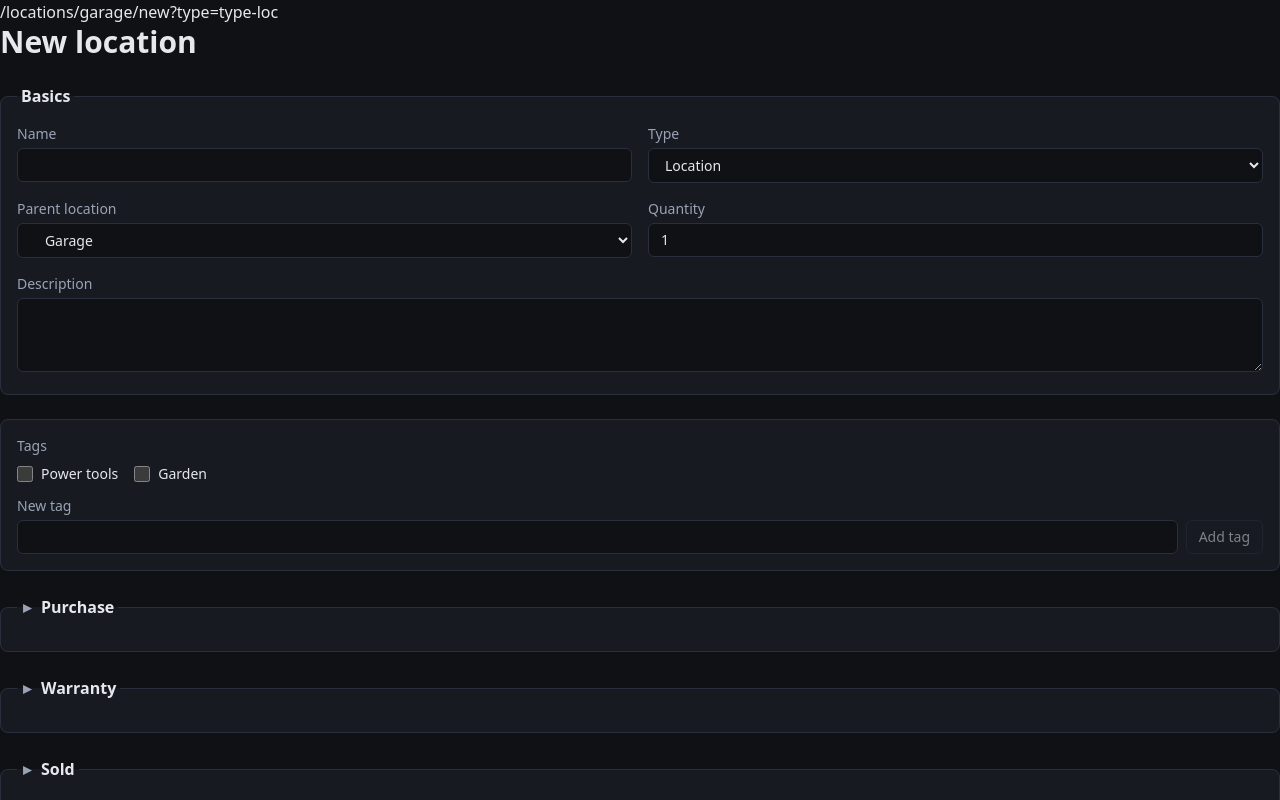
NewEntityPage › creates a location under the route location and opens its page
Expected: the heading "New location" is shown, [0,21,197,62]
Expected: the checkbox labelled "Garden" is shown, [134,466,150,482]
Type "Attic" into the field labelled "Name".
click(324, 165); type("Attic")  # box [17,148,632,182]
(page scrolled)
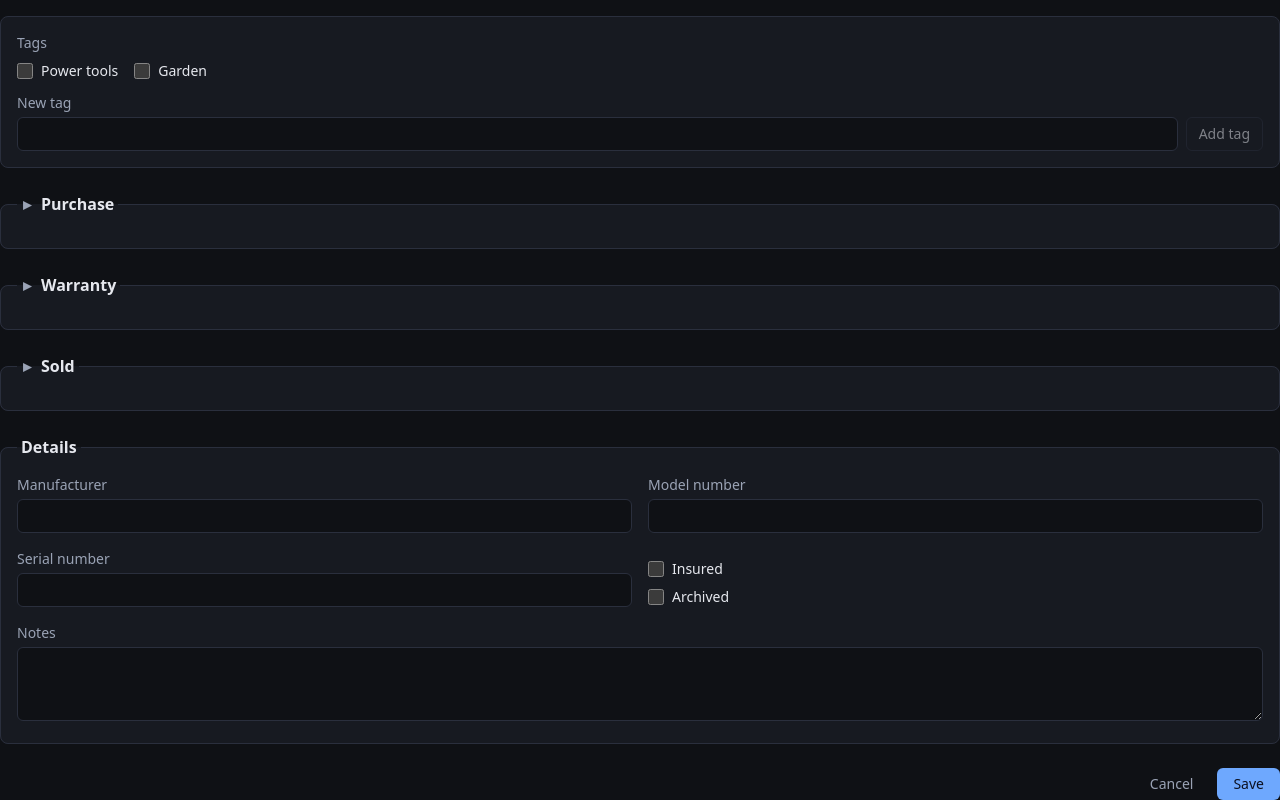
Click the button "Save".
click(1249, 784)  # box [1217,768,1279,799]
(page scrolled)
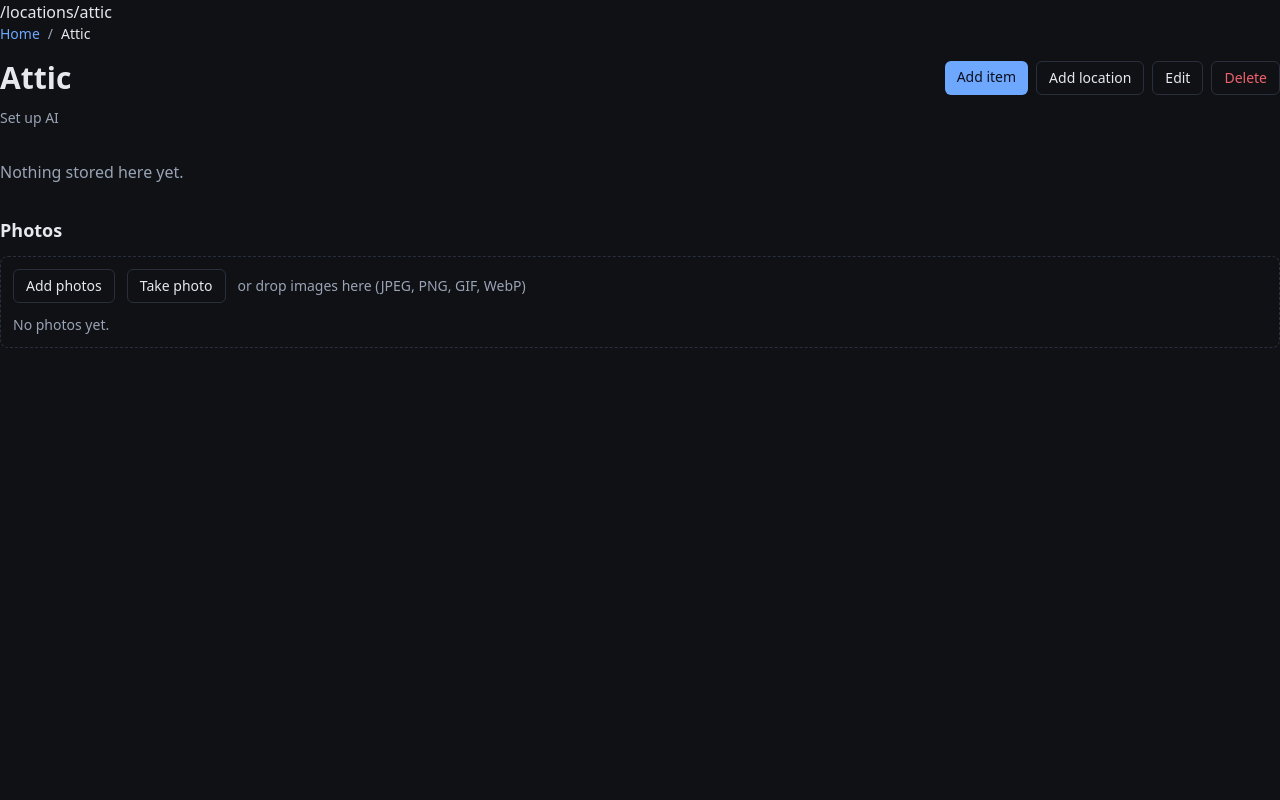
Expected: the text with test id "current-path" reads "/locations/attic", [0,1,112,23]
Expected: the heading "Attic" is shown, [0,60,71,96]
